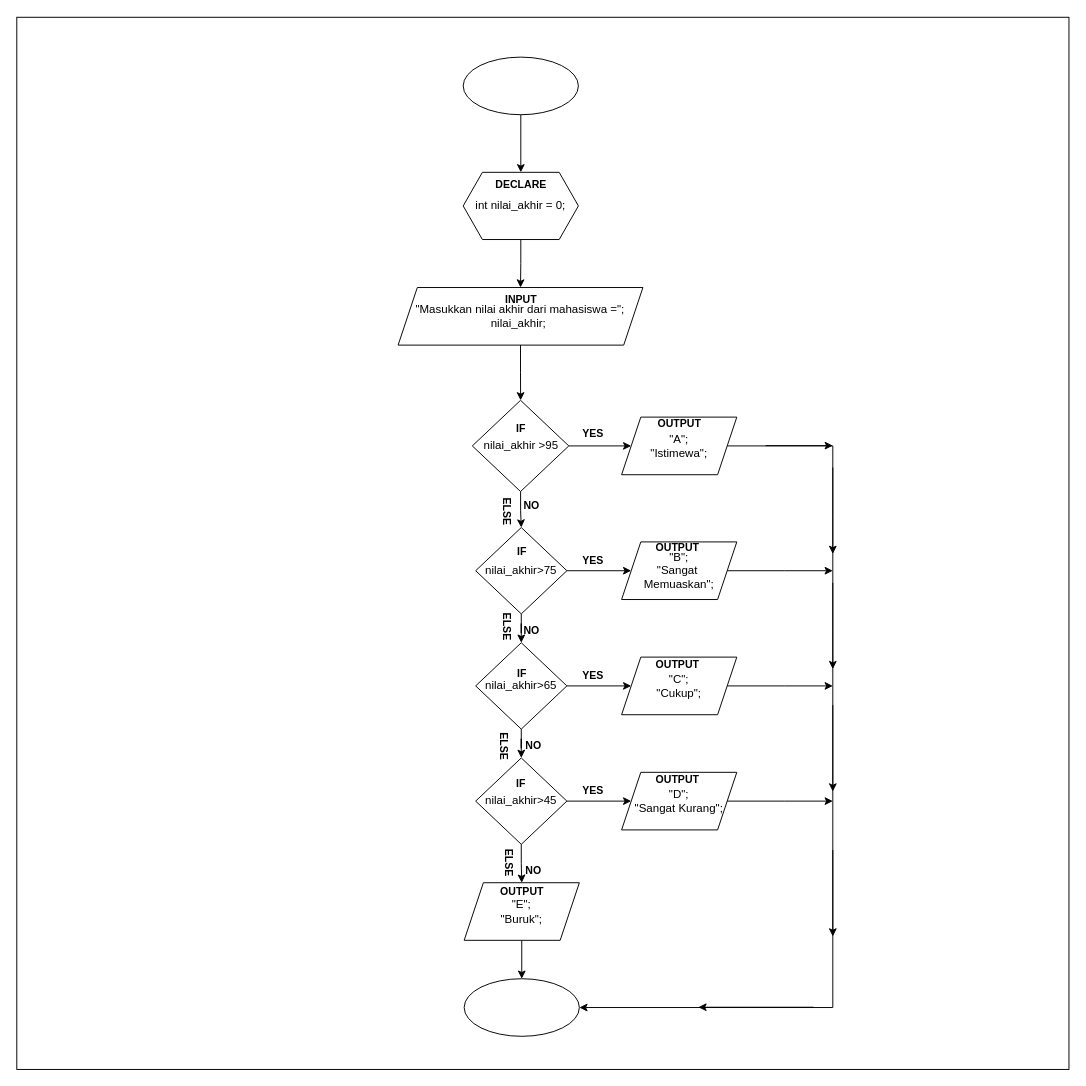
The diagram is 1086 pixels wide and 1086 high, and some of its shapes have lost their labels. The shapes that lost their labels are listed below. From the top down, each one's centre as x and y in pixels, then its label:
At point (520, 85): "START".
At point (521, 1007): "END".
